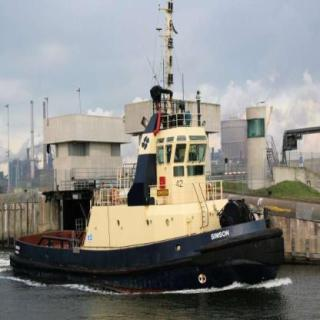Tug Boat: (12, 76, 290, 286)
